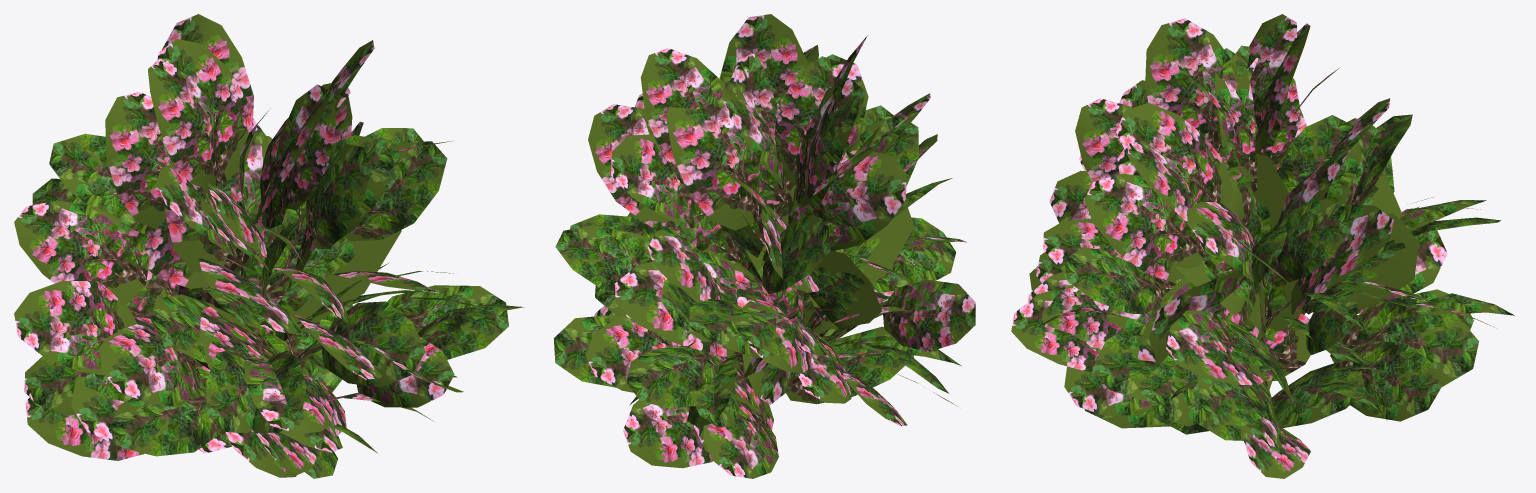
Rendered from Azalea_LowPoly.glb.
The picture shows the model from 3 angles, left to right: view 1: azimuth 30°, elevation 25°; view 2: azimuth 150°, elevation 25°; view 3: azimuth 270°, elevation 25°; orthographic projection. The views are drawn at different scales.
Visible parts, largest first — view 1: Azalea_Mobile_Flowers_2; view 2: Azalea_Mobile_Flowers_2; view 3: Azalea_Mobile_Flowers_2.
Boxes of the visible parts, box(x1,y1,x2,y2) form: Azalea_Mobile_Flowers_2: box(14, 14, 524, 478); Azalea_Mobile_Flowers_2: box(553, 14, 975, 478); Azalea_Mobile_Flowers_2: box(1011, 14, 1514, 478).
Bounding box in the file's own units: 0.4381 × 0.3582 × 0.452.
Materials: 2 (2 with a texture image).
